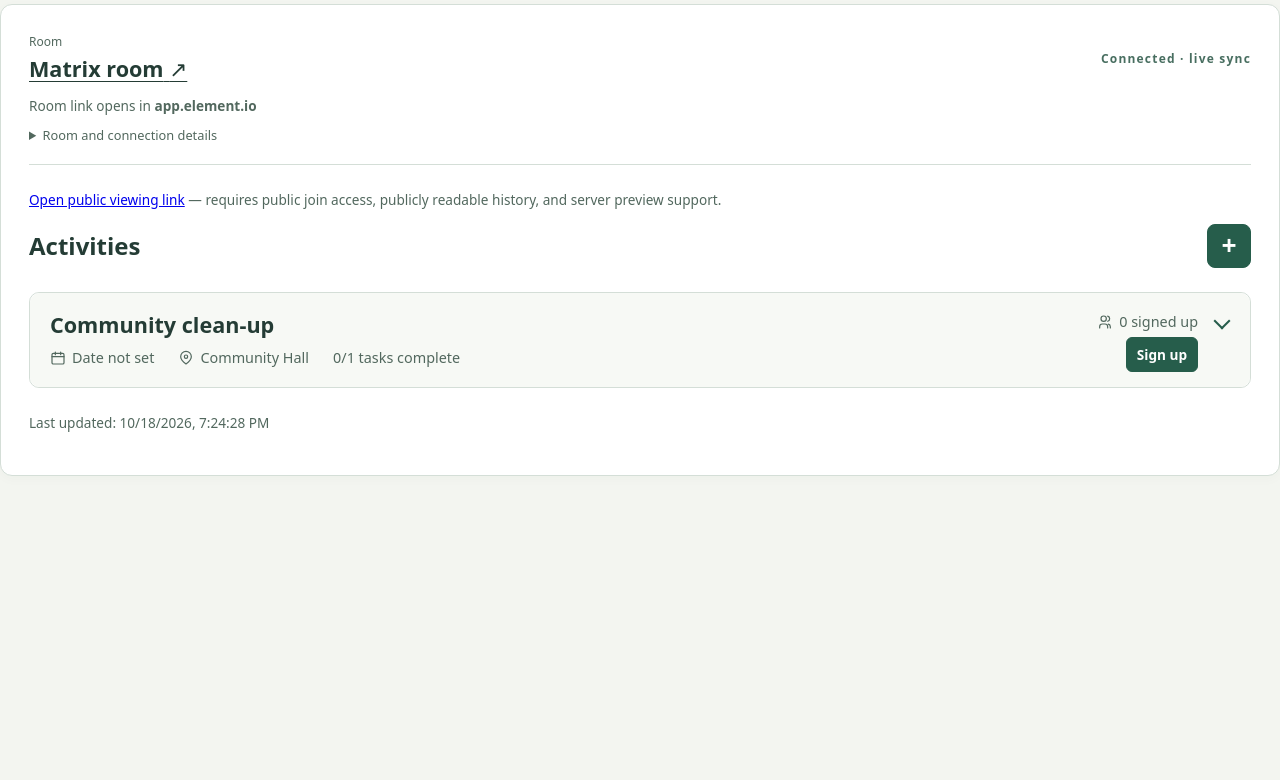
keeps the activity compact and lets viewers expand its details
The image size is (1280, 780).
Expected: the icon with class "summary-icon--date" is shown, [50,350,66,366]
Expected: the icon with class "summary-icon--location" is shown, [178,350,194,366]
Click the heading "Community clean-up". click: {"x": 162, "y": 324}
box: [50,310,274,339]
(page scrolled)
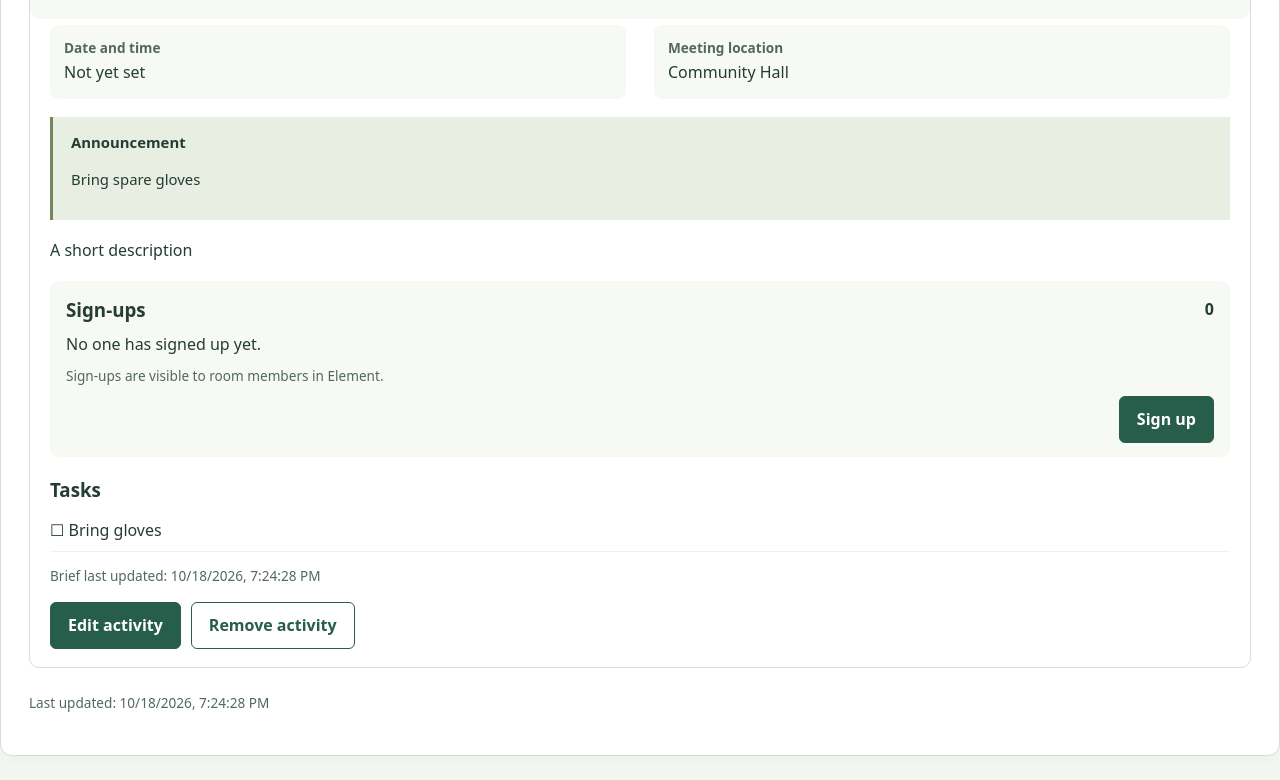
Now the text "Announcement" is shown, box [71,132,186,152]
Now the text "Bring spare gloves" is shown, box [71,170,200,190]
Now the list item "Bring gloves" is shown, box [68,519,162,541]
